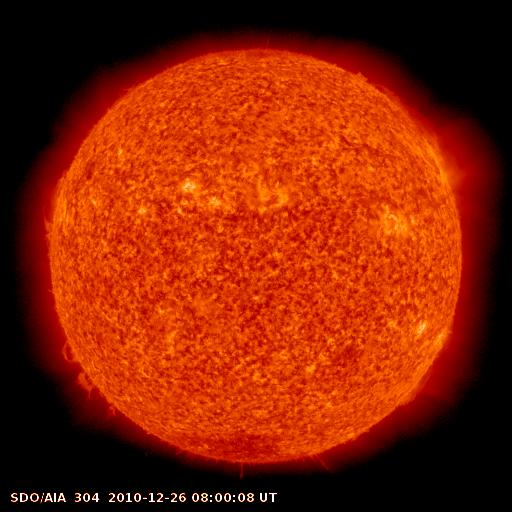prominence: (54, 333, 123, 424), (366, 76, 447, 149), (36, 159, 76, 246), (389, 360, 443, 416)
